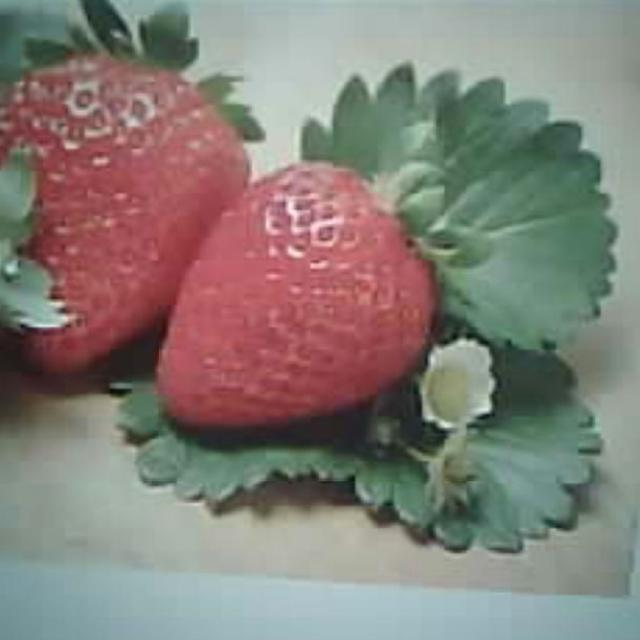Healthy Fruit: (0, 48, 252, 375), (153, 159, 439, 431)
